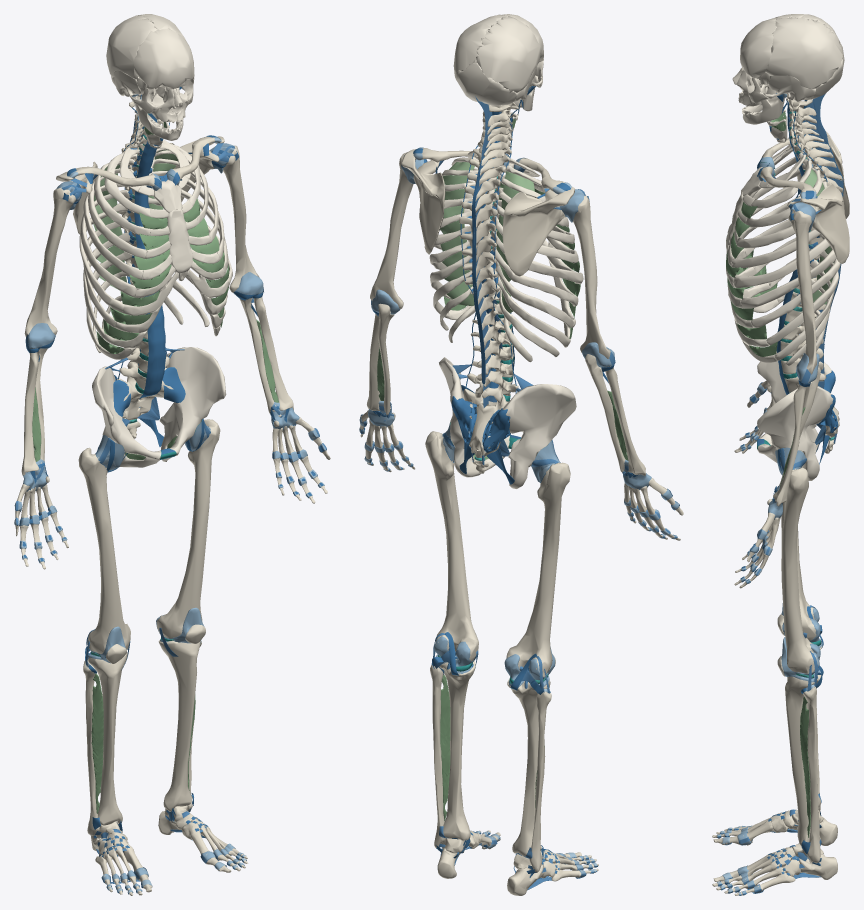
File: joints.glb
The picture shows the model from 3 angles, left to right: view 1: azimuth 30°, elevation 25°; view 2: azimuth 150°, elevation 25°; view 3: azimuth 270°, elevation 25°; orthographic projection. The views are drawn at different scales.
Visible parts, largest first — view 1: bones-of-leg-and-foot, thoracic-cage, bones-of-shoulder-girdle-and-arm, skull-hyoid-and-larynx, hip-bones, external-intercostal-membrane, vertebrae, anterior-longitudinal-ligament, interosseous-membrane-of-leg, internal-intercostal-membrane, anterior-sacro-iliac-ligament, articular-capsule-of-elbow-joint (+4 smaller); view 2: bones-of-leg-and-foot, bones-of-shoulder-girdle-and-arm, thoracic-cage, vertebrae, skull-hyoid-and-larynx, hip-bones, internal-intercostal-membrane, posterior-sacro-iliac-ligament, articular-capsule-of-knee-joint, interosseous-membrane-of-leg, supraspinous-ligament, articular-capsule-of-elbow-joint (+3 smaller); view 3: bones-of-leg-and-foot, thoracic-cage, skull-hyoid-and-larynx, bones-of-shoulder-girdle-and-arm, hip-bones, vertebrae, external-intercostal-membrane, interosseous-membrane-of-leg, articular-capsule-of-knee-joint, interspinous-ligaments, anterior-longitudinal-ligament, posterior-sacro-iliac-ligament (+4 smaller).
Boxes of the visible parts, x1,y1,x2,y2 form: bones-of-leg-and-foot: [78, 419, 247, 895]; thoracic-cage: [79, 140, 232, 359]; bones-of-shoulder-girdle-and-arm: [15, 136, 330, 569]; skull-hyoid-and-larynx: [106, 14, 194, 148]; hip-bones: [92, 347, 226, 467]; external-intercostal-membrane: [96, 198, 229, 353]; vertebrae: [117, 96, 173, 438]; anterior-longitudinal-ligament: [134, 113, 165, 397]; interosseous-membrane-of-leg: [91, 673, 195, 813]; internal-intercostal-membrane: [93, 149, 178, 290]; anterior-sacro-iliac-ligament: [113, 367, 185, 416]; articular-capsule-of-elbow-joint: [28, 272, 263, 348]; bones-of-leg-and-foot: [425, 431, 598, 895]; bones-of-shoulder-girdle-and-arm: [360, 148, 683, 540]; thoracic-cage: [429, 151, 583, 362]; vertebrae: [459, 102, 518, 473]; skull-hyoid-and-larynx: [453, 14, 543, 136]; hip-bones: [439, 357, 576, 488]; internal-intercostal-membrane: [440, 162, 534, 312]; posterior-sacro-iliac-ligament: [451, 396, 510, 452]; articular-capsule-of-knee-joint: [434, 636, 555, 687]; interosseous-membrane-of-leg: [440, 675, 544, 820]; supraspinous-ligament: [472, 161, 485, 384]; articular-capsule-of-elbow-joint: [371, 289, 614, 367]; bones-of-leg-and-foot: [712, 467, 837, 895]; thoracic-cage: [726, 144, 840, 365]; skull-hyoid-and-larynx: [732, 14, 844, 142]; bones-of-shoulder-girdle-and-arm: [734, 131, 849, 588]; hip-bones: [757, 351, 833, 480]; vertebrae: [780, 98, 842, 453]; external-intercostal-membrane: [726, 202, 777, 356]; interosseous-membrane-of-leg: [800, 696, 810, 837]; articular-capsule-of-knee-joint: [781, 603, 822, 682]; interspinous-ligaments: [806, 100, 843, 388]; anterior-longitudinal-ligament: [776, 100, 809, 394]; posterior-sacro-iliac-ligament: [818, 370, 838, 432].
Size of the model in its own units: 1.67 by 4.24 by 0.6249.
